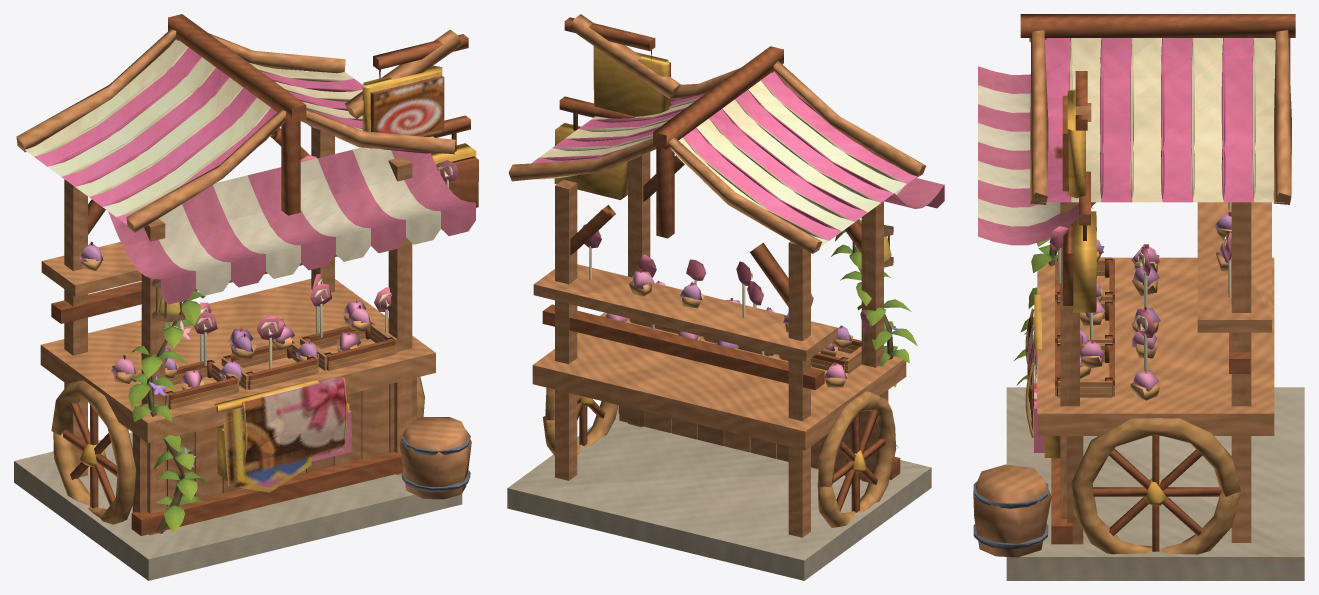
The model's file is stall_sweets.glb.
3 views of the same model, side by side, from view 1: azimuth 30°, elevation 25°; view 2: azimuth 150°, elevation 25°; view 3: azimuth 270°, elevation 25° (orthographic). The views are drawn at different scales.
Visible parts, largest first — view 1: Body; view 2: Body; view 3: Body.
Part boxes in pixels (bbox=[...]): Body: bbox=[14, 14, 478, 580]; Body: bbox=[507, 14, 944, 580]; Body: bbox=[973, 14, 1304, 580].
Size of the model in its own units: 2.83 by 3.27 by 2.01.
Materials: 1 (1 with a texture image).
